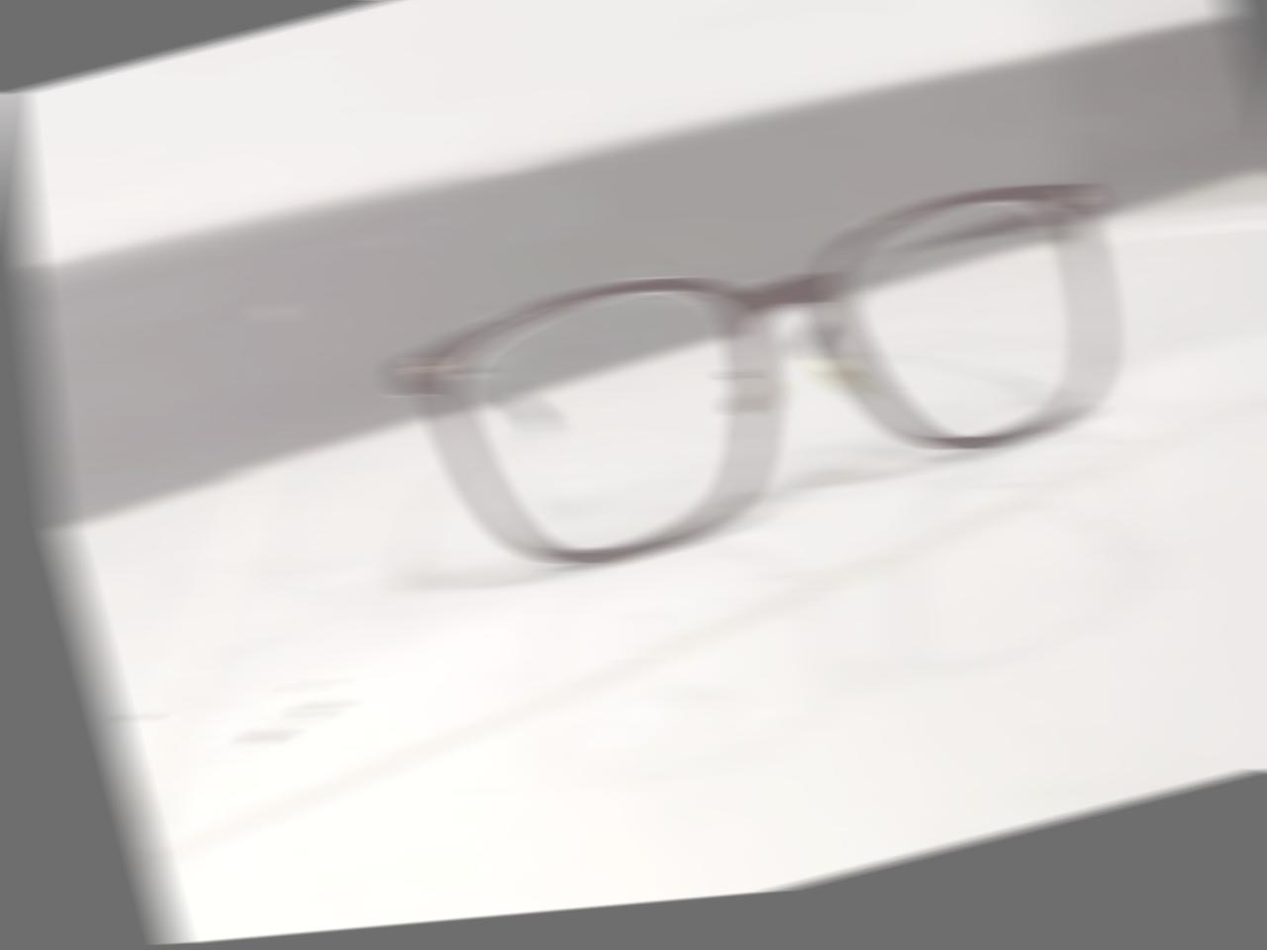glasses: (353, 136, 1197, 618)
